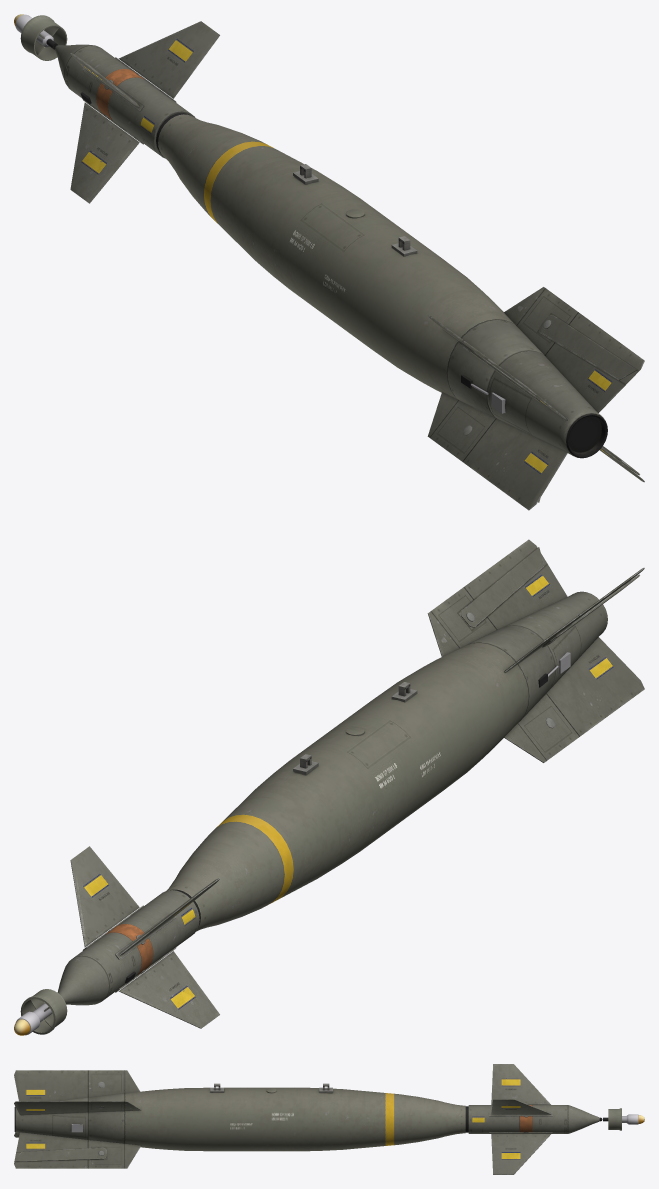
File: gbu10.glb
The picture shows the model from 3 angles, top to bottom: view 1: azimuth 30°, elevation 25°; view 2: azimuth 150°, elevation 25°; view 3: azimuth 270°, elevation 25°; orthographic projection. The views are drawn at different scales.
Visible parts, largest first — view 1: G10_body, G10_tail, G10_ccg, canard1, canard3, wing1, seeker; view 2: G10_body, G10_tail, G10_ccg, canard3, canard1, wing1, seeker; view 3: G10_body, G10_tail, G10_ccg, canard4, canard2, wing4, canard1, seeker, G10_lugs.
Part boxes in pixels (x1=…): G10_body: x1=158, y1=114, x2=516, y2=399; G10_tail: x1=427, y1=287, x2=644, y2=510; G10_ccg: x1=54, y1=44, x2=195, y2=158; canard1: x1=118, y1=21, x2=219, y2=98; canard3: x1=70, y1=102, x2=139, y2=203; wing1: x1=539, y1=314, x2=636, y2=380; seeker: x1=14, y1=14, x2=67, y2=60; G10_body: x1=166, y1=642, x2=528, y2=931; G10_tail: x1=427, y1=539, x2=644, y2=762; G10_ccg: x1=57, y1=890, x2=200, y2=1005; canard3: x1=118, y1=951, x2=219, y2=1028; canard1: x1=70, y1=846, x2=139, y2=947; wing1: x1=461, y1=547, x2=544, y2=627; seeker: x1=14, y1=989, x2=67, y2=1035; G10_body: x1=124, y1=1087, x2=465, y2=1151; G10_tail: x1=14, y1=1070, x2=140, y2=1168; G10_ccg: x1=465, y1=1105, x2=602, y2=1133; canard4: x1=491, y1=1133, x2=551, y2=1174; canard2: x1=491, y1=1064, x2=550, y2=1104; wing4: x1=14, y1=1147, x2=106, y2=1161; canard1: x1=491, y1=1099, x2=551, y2=1114; seeker: x1=603, y1=1108, x2=644, y2=1130; G10_lugs: x1=210, y1=1083, x2=332, y2=1092.
Size of the model in its own units: 0.5727 by 0.5727 by 4.32.
1 material, 1 textured.
